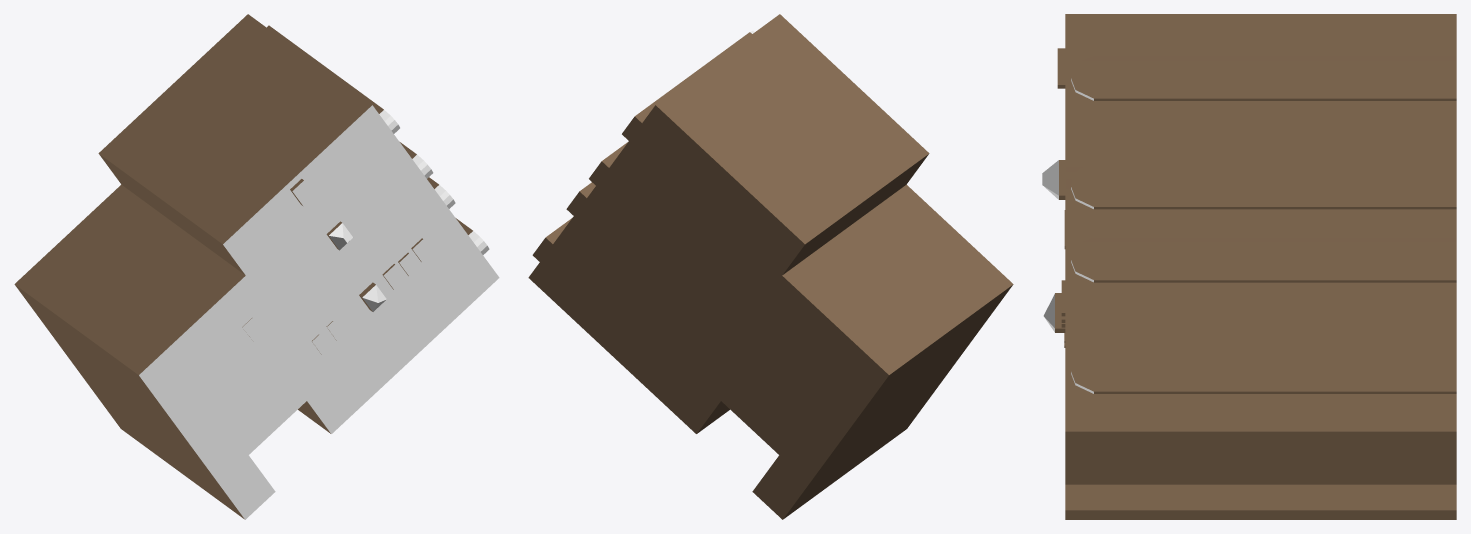
3 renders of one model, left to right at view 1: azimuth 30°, elevation 25°; view 2: azimuth 150°, elevation 25°; view 3: azimuth 270°, elevation 25°, orthographic. The views are drawn at different scales.
Visible parts, largest first — view 1: City_PC-08793; view 2: City_PC-08793; view 3: City_PC-08793.
Part boxes in pixels (<box>): City_PC-08793: <box>14,14,499,519</box>; City_PC-08793: <box>528,14,1013,519</box>; City_PC-08793: <box>1042,14,1456,519</box>.
Bounding box in the file's own units: 2468 × 2510 × 1561.
